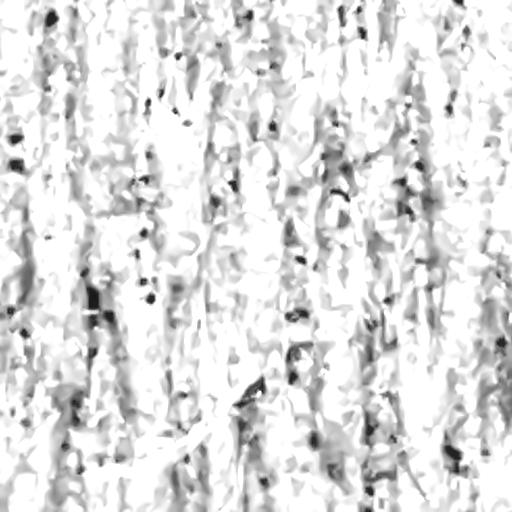egg: (442, 432, 462, 473), (393, 176, 414, 215), (86, 280, 101, 328), (1, 133, 24, 158), (138, 277, 155, 304), (331, 188, 348, 202), (71, 397, 79, 425), (337, 5, 345, 26)
